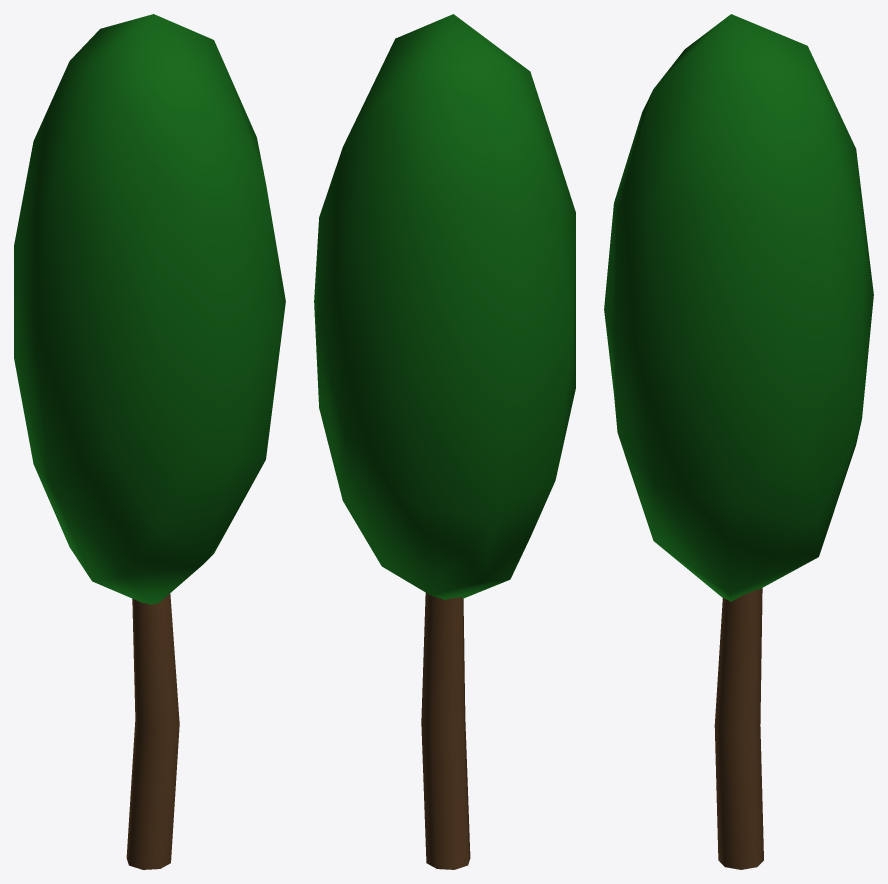
Rendered from Tree_3.FBX.
3 views of the same model, side by side, from view 1: azimuth 30°, elevation 25°; view 2: azimuth 150°, elevation 25°; view 3: azimuth 270°, elevation 25° (orthographic).
Visible parts, largest first — view 1: Cylinder002; view 2: Cylinder002; view 3: Cylinder002.
Part boxes in pixels (<box>): Cylinder002: <box>14,14,285,869</box>; Cylinder002: <box>314,14,575,869</box>; Cylinder002: <box>604,14,873,869</box>.
Size of the model in its own units: 59.87 by 204 by 59.03.
